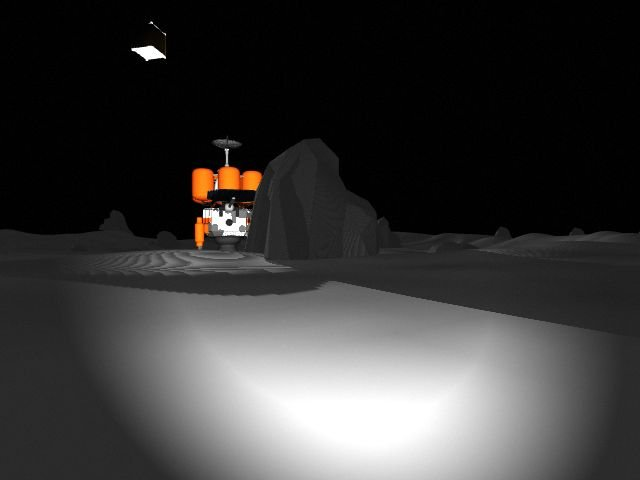cubesat: (120, 14, 183, 66)
